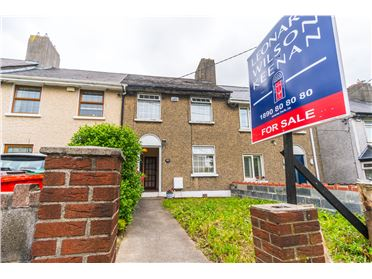property sign: (236, 6, 352, 147)
